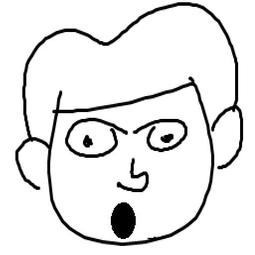ear: (7, 134, 58, 199), (205, 100, 248, 172)
eye: (61, 114, 127, 160), (135, 116, 190, 155)
nose: (117, 157, 152, 196)
open_mouth: (108, 200, 140, 242)
